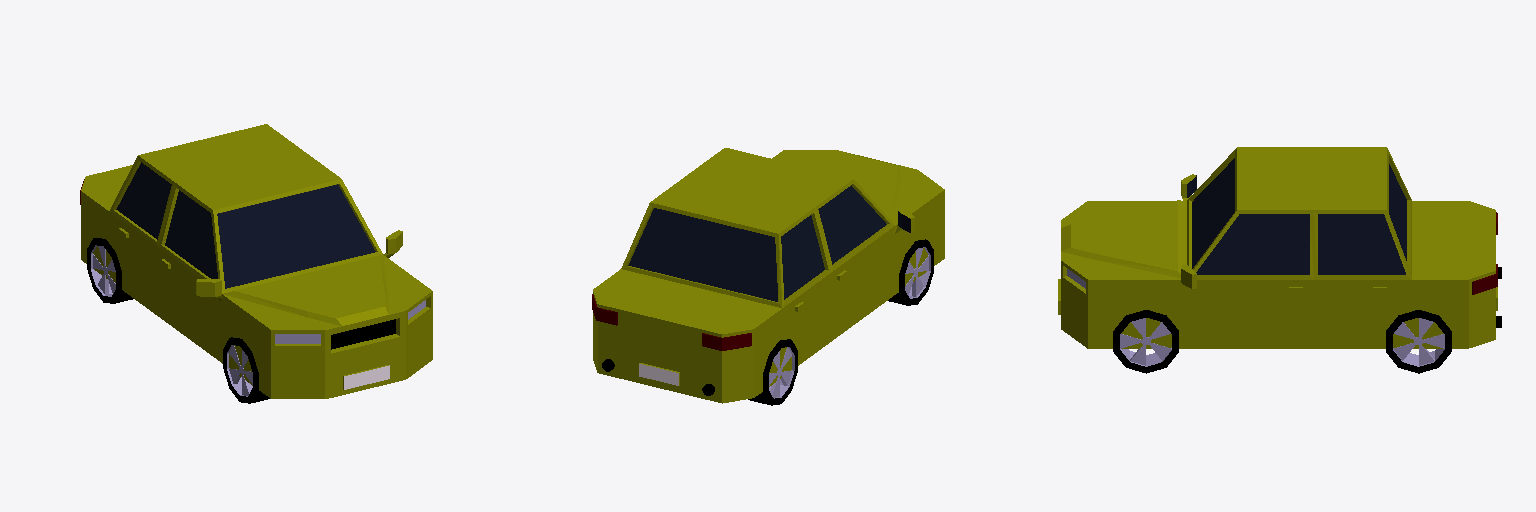
Rendered from sedan.obj.
3 views of the same model, side by side, from view 1: azimuth 30°, elevation 25°; view 2: azimuth 150°, elevation 25°; view 3: azimuth 270°, elevation 25° (orthographic).
Visible parts, largest first — view 1: Sedan, Sedan_wheel_rear_right, Sedan_wheel_front_right; view 2: Sedan, Sedan_wheel_rear_right, Sedan_wheel_front_right; view 3: Sedan, Sedan_wheel_rear_left, Sedan_wheel_front_left.
Part boxes in pixels (x1,y1,x2,y2): Sedan: (80,124,432,398); Sedan_wheel_rear_right: (87,238,133,303); Sedan_wheel_front_right: (223,337,269,403); Sedan: (592,148,944,403); Sedan_wheel_rear_right: (748,339,797,405); Sedan_wheel_front_right: (888,239,933,305); Sedan: (1058,147,1501,348); Sedan_wheel_rear_left: (1386,310,1451,373); Sedan_wheel_front_left: (1113,310,1178,373).
Bounding box in the file's own units: 2.81 × 2.01 × 5.23.